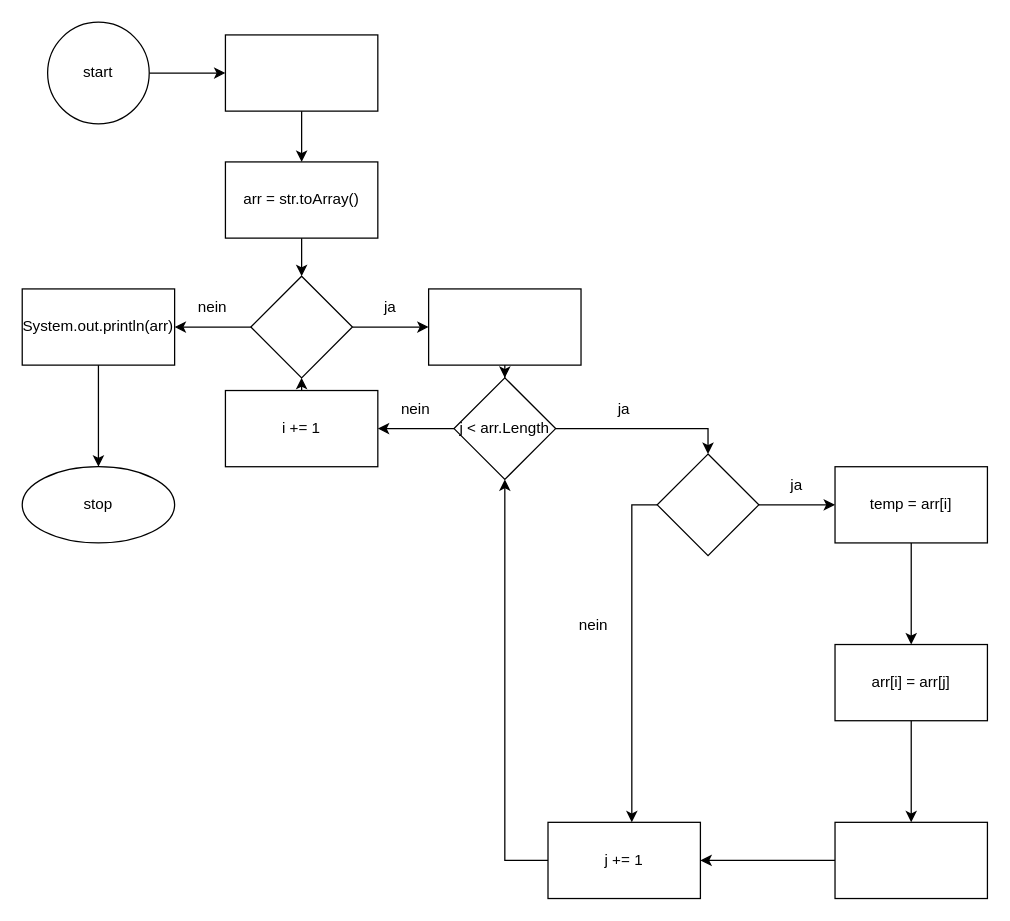
Some shapes in this 1010 by 921 pixel diagram are drawn without their labels. The centre of each missing label's shape, as x and y in pixels:
arr[j] = temp: point 910,860
arrr[j] < arr[i]: point 707,504
i < arr.Lenght: point 301,326
j = i + 1: point 504,326
str = "DieserStringWirdSortiert": point 301,72
